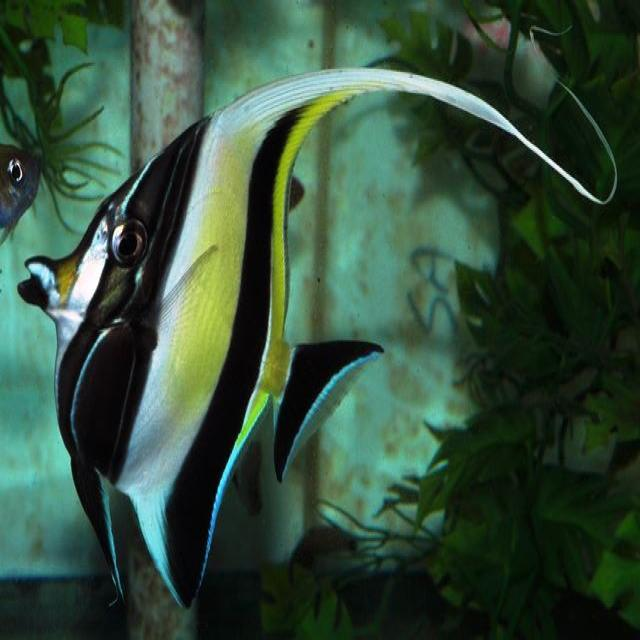MorishIdol: (15, 60, 617, 613)
